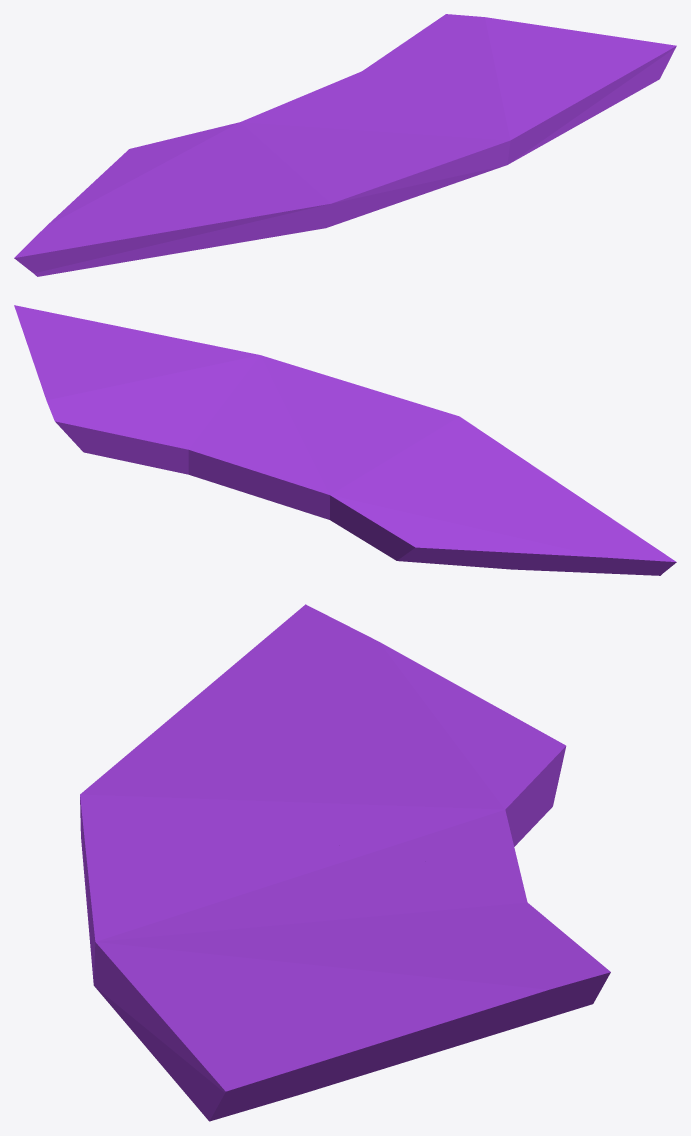
Rendered from Glass_101_0_1_chunks.fbx.
3 renders of one model, top to bottom at view 1: azimuth 30°, elevation 25°; view 2: azimuth 150°, elevation 25°; view 3: azimuth 270°, elevation 25°, orthographic. The views are drawn at different scales.
Visible parts, largest first — view 1: Glass_101_0_1_10, Glass_101_0_1_2, Glass_101_0_1_8, Glass_101_0_1_3, Glass_101_0_1_6, Glass_101_0_1_4, Glass_101_0_1_15, Glass_101_0_1_7, Glass_101_0_1_14, Glass_101_0_1_0, Glass_101_0_1_11, Glass_101_0_1_12 (+1 smaller); view 2: Glass_101_0_1_15, Glass_101_0_1_2, Glass_101_0_1_4, Glass_101_0_1_8, Glass_101_0_1_7, Glass_101_0_1_10, Glass_101_0_1_6, Glass_101_0_1_3, Glass_101_0_1_14, Glass_101_0_1_0, Glass_101_0_1_11, Glass_101_0_1_12; view 3: Glass_101_0_1_6, Glass_101_0_1_10, Glass_101_0_1_8, Glass_101_0_1_15, Glass_101_0_1_2, Glass_101_0_1_7, Glass_101_0_1_3, Glass_101_0_1_4, Glass_101_0_1_14, Glass_101_0_1_0, Glass_101_0_1_12, Glass_101_0_1_11.
Part boxes in pixels (x1=…): Glass_101_0_1_10: x1=442, y1=58, x2=655, y2=173; Glass_101_0_1_2: x1=14, y1=176, x2=208, y2=276; Glass_101_0_1_8: x1=323, y1=125, x2=478, y2=212; Glass_101_0_1_3: x1=172, y1=173, x2=368, y2=242; Glass_101_0_1_6: x1=462, y1=26, x2=676, y2=93; Glass_101_0_1_4: x1=309, y1=58, x2=472, y2=122; Glass_101_0_1_15: x1=55, y1=131, x2=219, y2=217; Glass_101_0_1_7: x1=382, y1=14, x2=542, y2=71; Glass_101_0_1_14: x1=202, y1=93, x2=339, y2=138; Glass_101_0_1_0: x1=198, y1=140, x2=333, y2=183; Glass_101_0_1_11: x1=327, y1=93, x2=472, y2=136; Glass_101_0_1_12: x1=218, y1=127, x2=335, y2=163; Glass_101_0_1_15: x1=360, y1=491, x2=583, y2=567; Glass_101_0_1_2: x1=452, y1=488, x2=676, y2=575; Glass_101_0_1_4: x1=154, y1=387, x2=292, y2=500; Glass_101_0_1_8: x1=259, y1=366, x2=446, y2=446; Glass_101_0_1_7: x1=36, y1=371, x2=168, y2=470; Glass_101_0_1_10: x1=46, y1=311, x2=294, y2=393; Glass_101_0_1_6: x1=14, y1=305, x2=187, y2=397; Glass_101_0_1_3: x1=397, y1=412, x2=568, y2=489; Glass_101_0_1_14: x1=251, y1=445, x2=370, y2=538; Glass_101_0_1_0: x1=334, y1=428, x2=461, y2=496; Glass_101_0_1_11: x1=188, y1=387, x2=325, y2=446; Glass_101_0_1_12: x1=303, y1=445, x2=419, y2=499; Glass_101_0_1_6: x1=189, y1=946, x2=449, y2=1121; Glass_101_0_1_10: x1=91, y1=914, x2=306, y2=1097; Glass_101_0_1_8: x1=81, y1=803, x2=338, y2=947; Glass_101_0_1_15: x1=357, y1=653, x2=566, y2=832; Glass_101_0_1_2: x1=194, y1=604, x2=399, y2=750; Glass_101_0_1_7: x1=393, y1=918, x2=610, y2=1064; Glass_101_0_1_3: x1=80, y1=699, x2=320, y2=863; Glass_101_0_1_4: x1=308, y1=861, x2=546, y2=951; Glass_101_0_1_14: x1=364, y1=787, x2=527, y2=861; Glass_101_0_1_0: x1=194, y1=750, x2=360, y2=840; Glass_101_0_1_12: x1=331, y1=769, x2=469, y2=857; Glass_101_0_1_11: x1=236, y1=845, x2=373, y2=946.
Size of the model in its own units: 1281 by 173 by 458.
